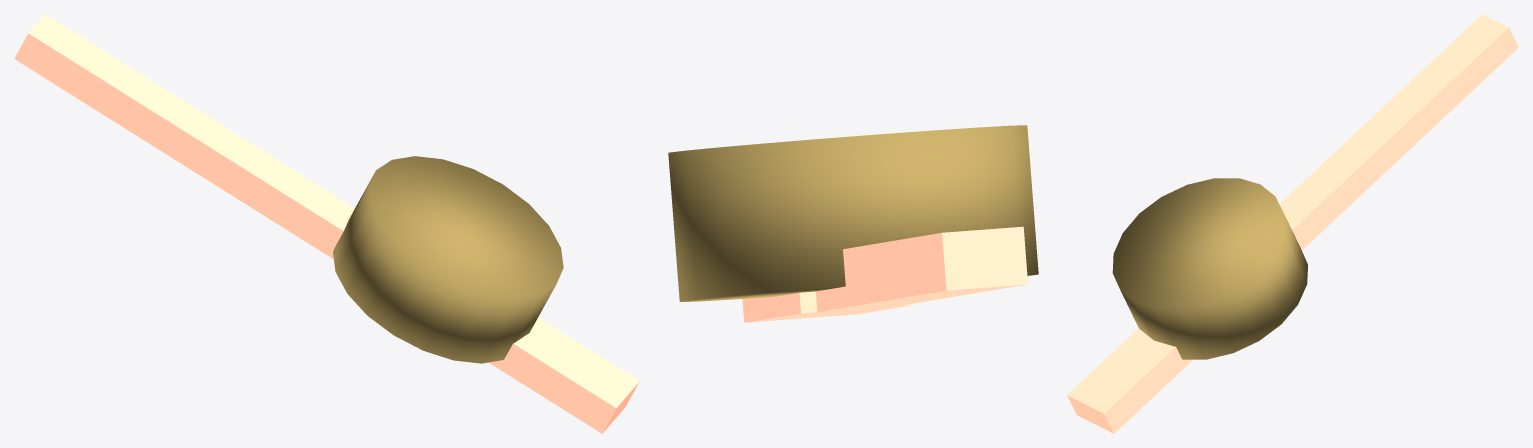
The model's file is hold.glb.
3 views of the same model, side by side, from view 1: azimuth 30°, elevation 25°; view 2: azimuth 150°, elevation 25°; view 3: azimuth 270°, elevation 25° (orthographic). The views are drawn at different scales.
Parts seen in each view (by area): view 1: fmm_gauge_hub, fmm_gauge_needle, fmm_gauge_tail; view 2: fmm_gauge_hub, fmm_gauge_needle, fmm_gauge_tail; view 3: fmm_gauge_hub, fmm_gauge_needle, fmm_gauge_tail.
Part boxes in pixels (x1,y1,x2,y2): fmm_gauge_hub: (333,156,563,363); fmm_gauge_needle: (14,14,354,259); fmm_gauge_tail: (489,317,639,433); fmm_gauge_hub: (668,125,1038,302); fmm_gauge_needle: (816,226,1027,311); fmm_gauge_tail: (742,291,915,322); fmm_gauge_hub: (1112,178,1307,359); fmm_gauge_needle: (1279,14,1518,250); fmm_gauge_tail: (1067,328,1192,433).
Bounding box in the file's own units: 0.0471 × 0.0349 × 0.0545.
